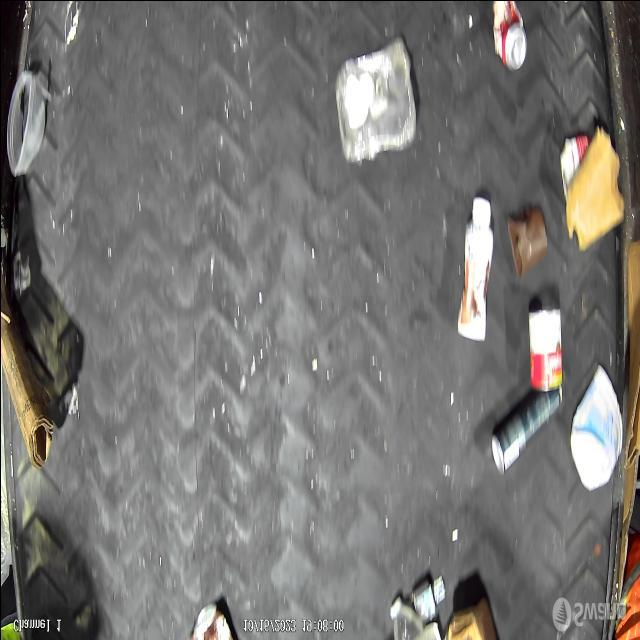can: (490, 382, 562, 474), (526, 306, 562, 392), (489, 0, 528, 73), (188, 600, 235, 640), (411, 574, 438, 624)
plastic_bottle: (388, 596, 424, 640)
